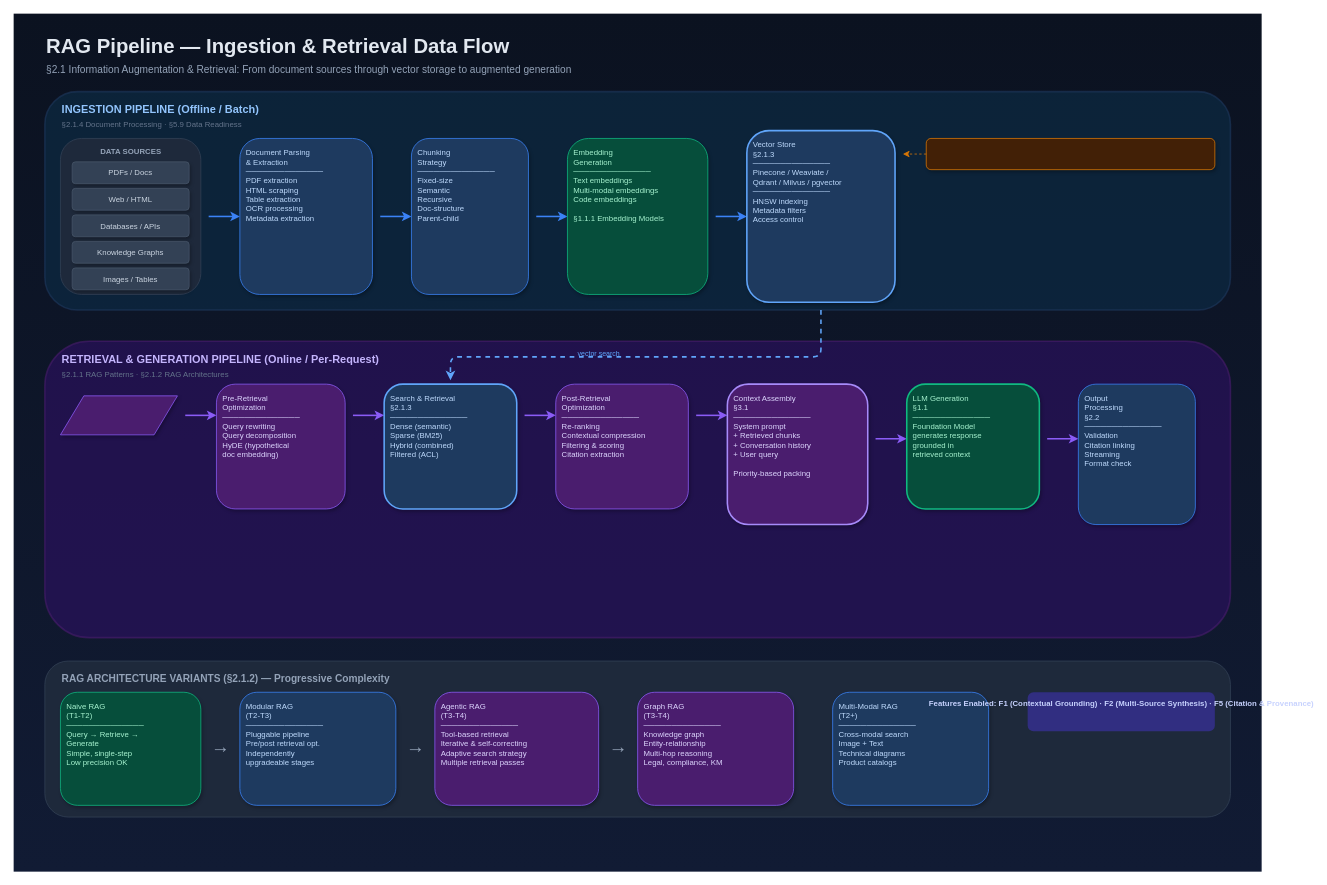
Some shapes in this 1327 by 885 pixel diagram are drawn without their labels. The centre of each missing label's shape, as x and y in pixels:
"Data Quality Pipeline (§5.9.2) Dedup · Quality Scoring · PII Scrubbing" goes at pixel 1071 155.
"User Query" goes at pixel 119 416.
